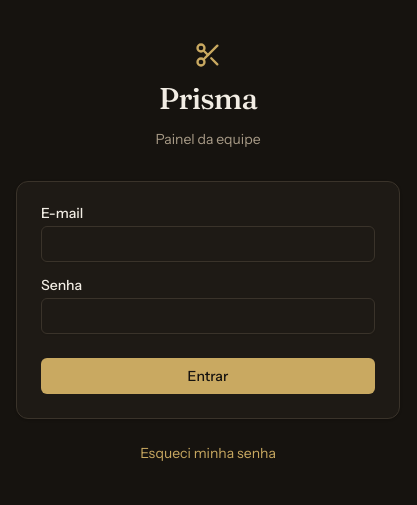
Test: LoginPage › erro genérico sem detail cai na mensagem de fallback
The width and height of the screenshot is (417, 505).
Step 1. Type "joao@barbearia.com" into the field labelled "E-mail" → point(208, 244), box [41,226,375,262]
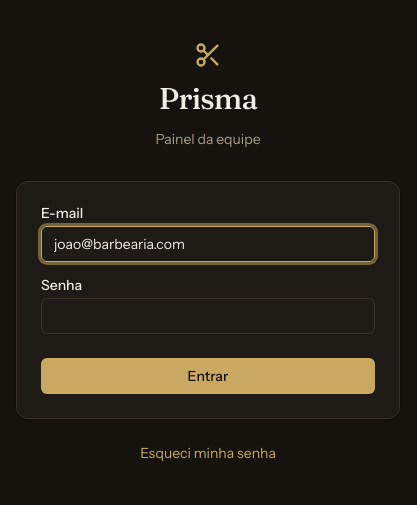
Step 2. Type "segredo123" into the password field labelled "Senha" → point(208, 316), box [41,298,375,334]
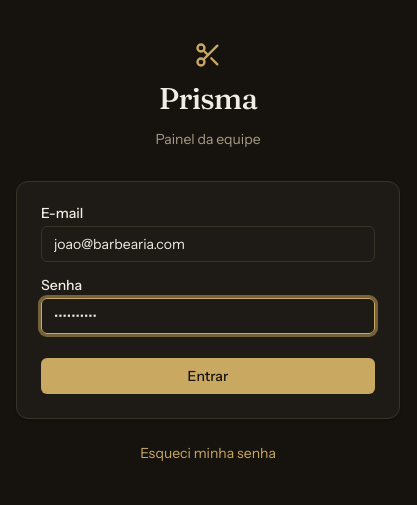
Step 3. Click the button "Entrar" → point(208, 376), box [41,358,375,394]
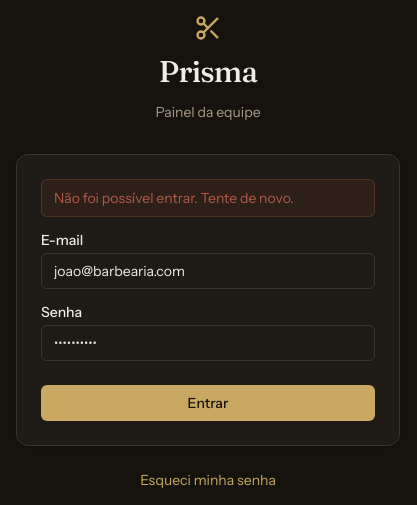
Now the text "Não foi possível entrar. Tente de novo." is shown, box [41,179,375,217]
